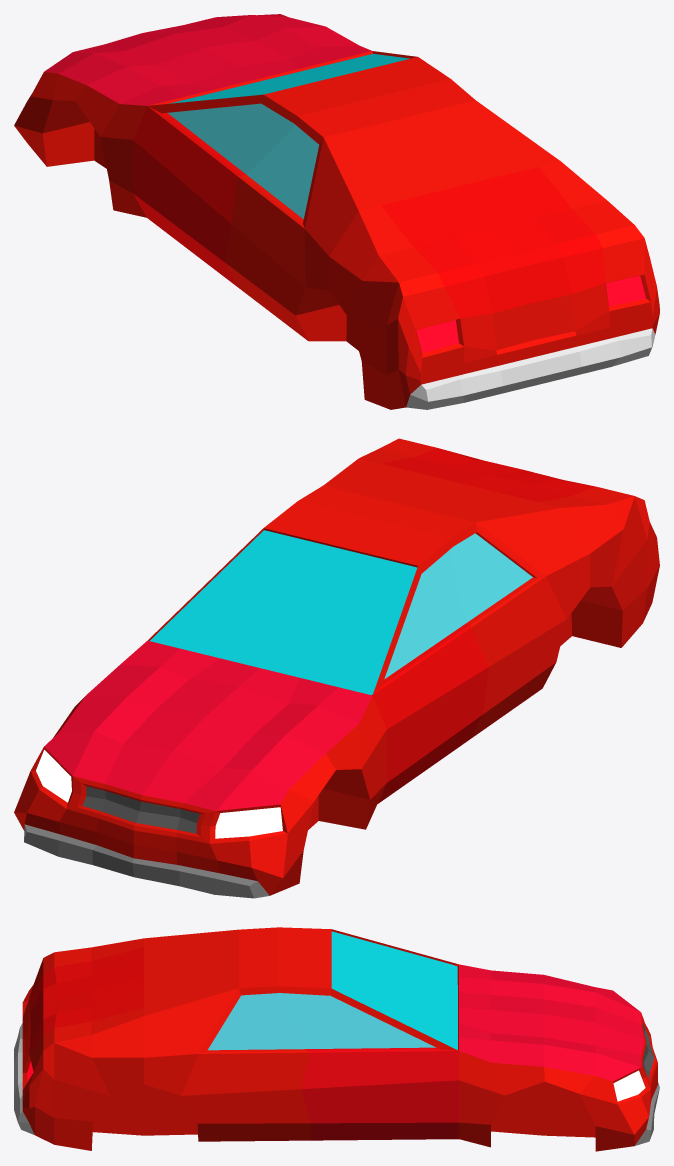
The model's file is car_chassis.gltf.
3 views of the same model, one above another, from view 1: azimuth 30°, elevation 25°; view 2: azimuth 150°, elevation 25°; view 3: azimuth 270°, elevation 25° (orthographic). The views are drawn at different scales.
Parts seen in each view (by area): view 1: BackBumper; view 2: BackBumper; view 3: BackBumper.
Boxes of the visible parts, x1,y1,x2,y2 form: BackBumper: (14,14,659,409); BackBumper: (14,438,659,898); BackBumper: (14,927,659,1151).
Size of the model in its own units: 4 by 2.71 by 10.54.
